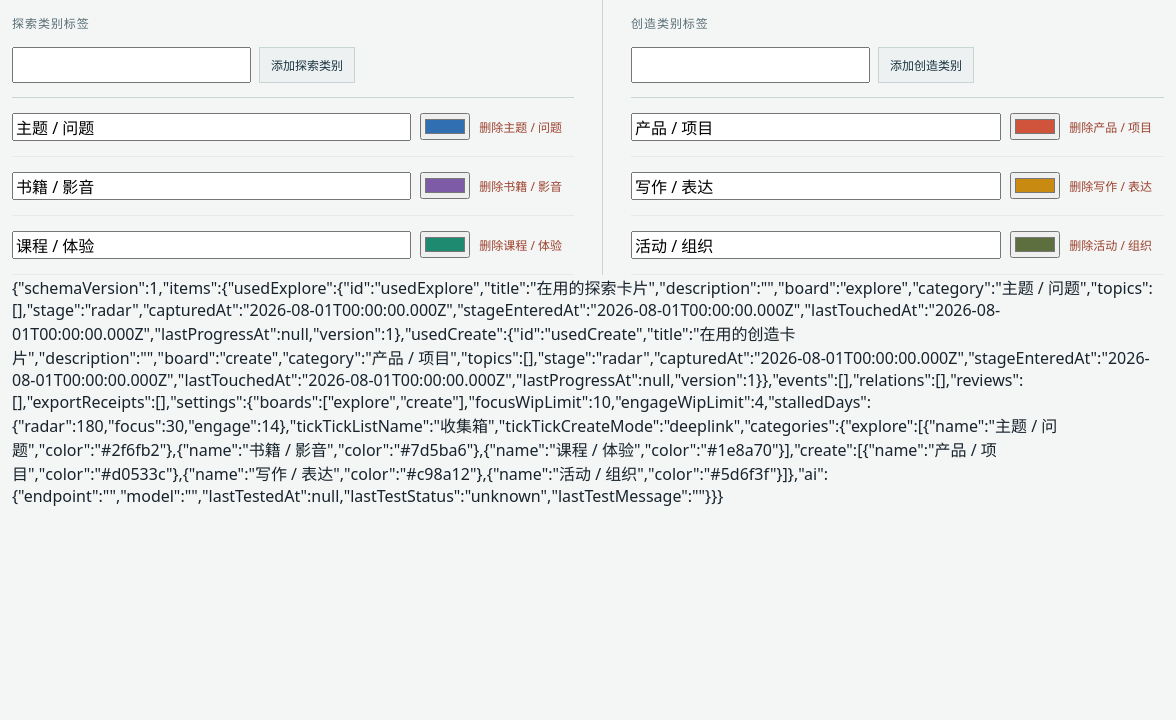
CategoryManager › shows a visible error and keeps state unchanged for a same-board duplicate
Type "主题 / 问题" into the field named "新增探索类别" at (132, 65), box left=12, top=47, right=251, bottom=83
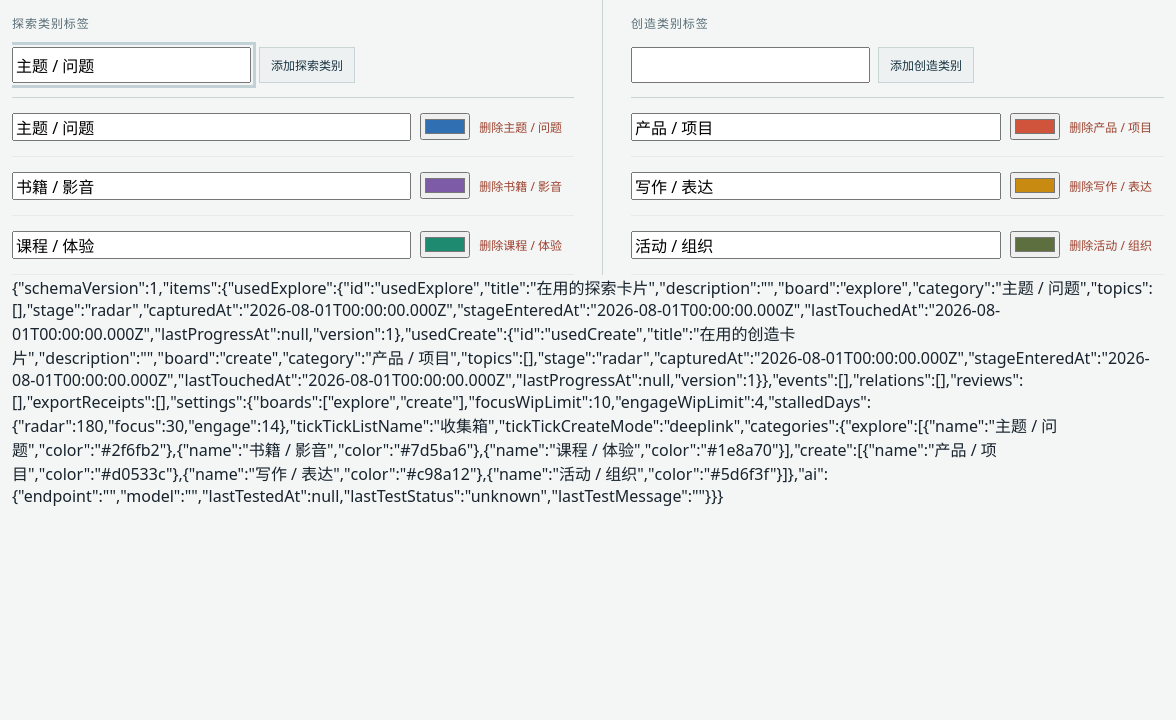
Click the button "添加探索类别" at (307, 65), box left=259, top=47, right=355, bottom=83
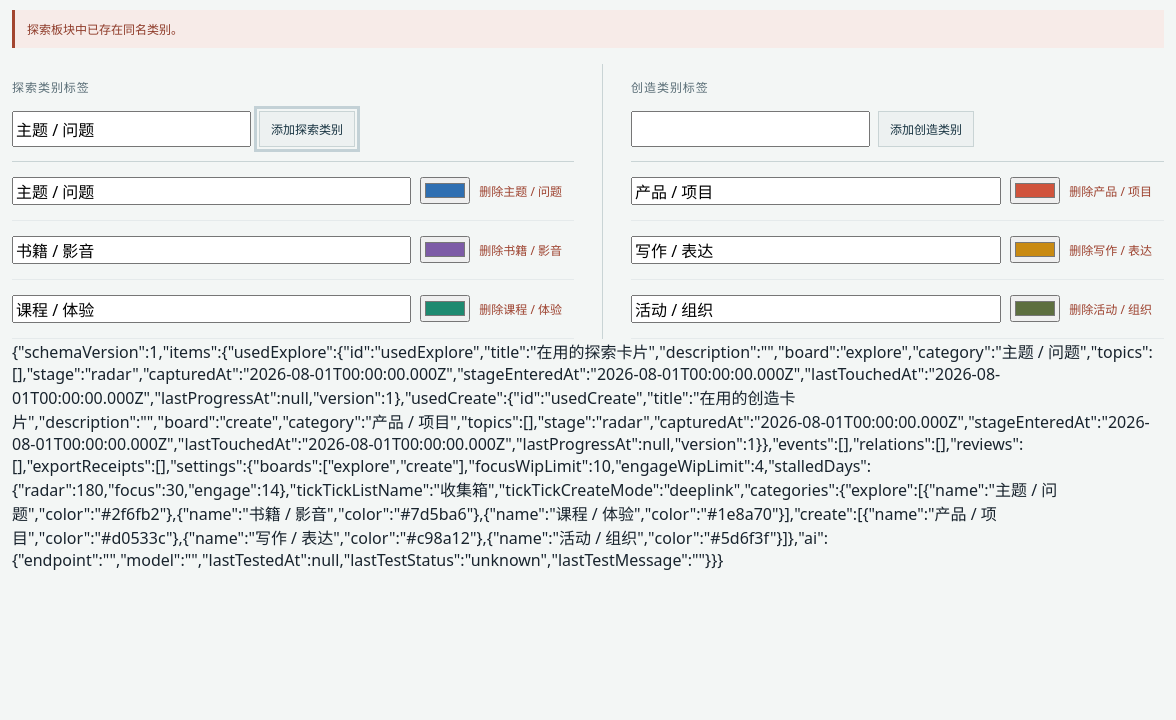
Expected: the number of fields named "探索类别名称：主题 / 问题" is 1, left=12, top=177, right=411, bottom=205
Expected: the message reads "探索板块中已存在同名类别。", left=27, top=21, right=183, bottom=38
